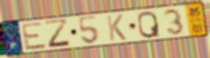3: (163, 8, 186, 37)
5: (76, 14, 101, 46)
E: (20, 21, 50, 52)
K: (105, 14, 128, 42)
Q: (136, 10, 162, 40)
Z: (44, 18, 74, 50)
